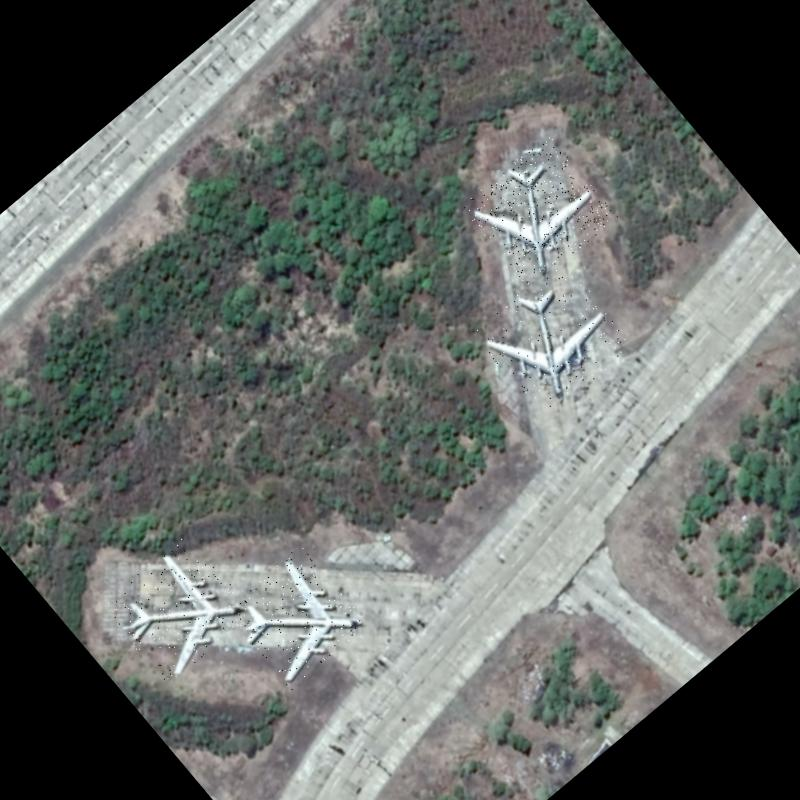A17: (470, 256, 635, 420), (460, 133, 618, 290), (99, 531, 255, 686), (223, 543, 369, 690)
